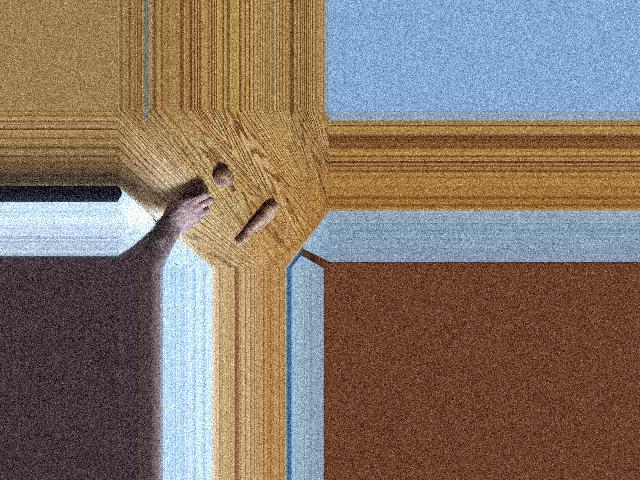onion: (180, 185, 206, 206)
